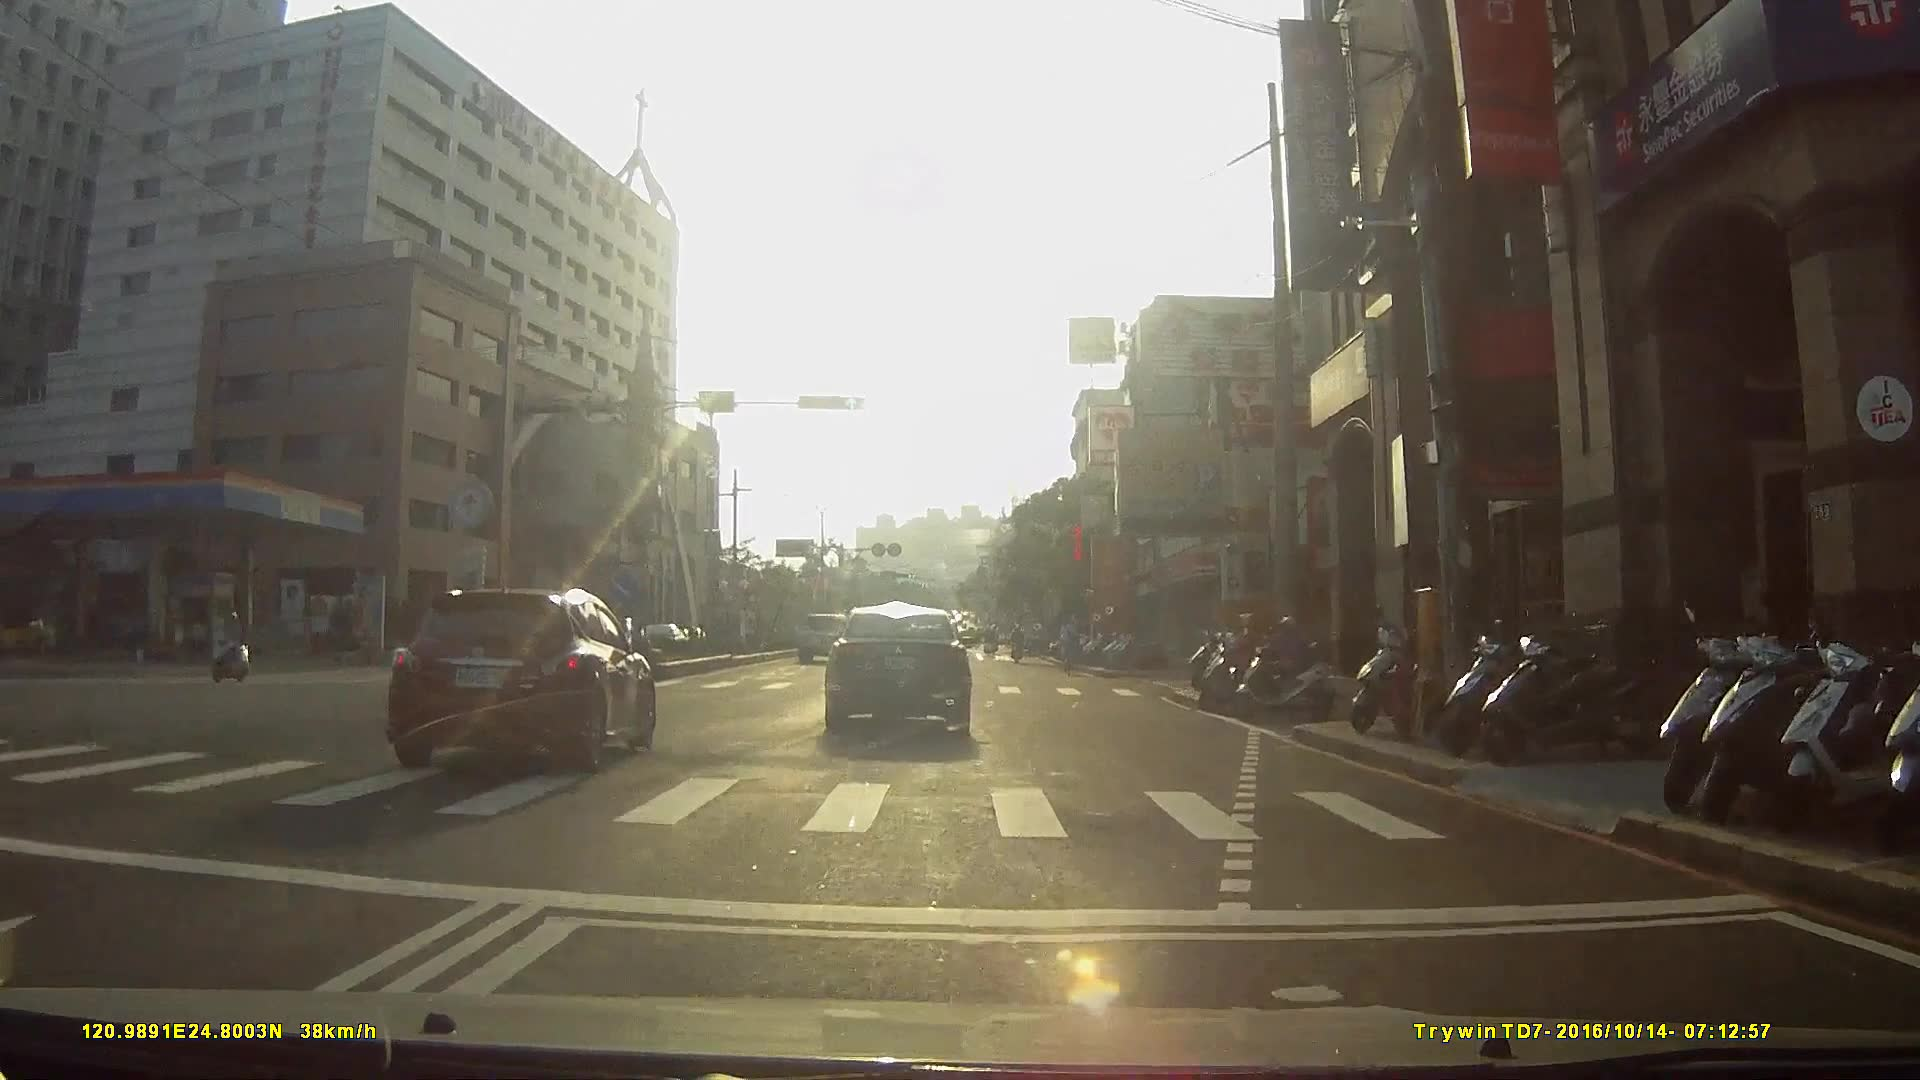rider: (1224, 615, 1339, 723), (1200, 613, 1302, 721), (212, 610, 252, 683)
vehicle: (384, 584, 674, 782), (823, 603, 986, 745), (801, 611, 860, 666)
